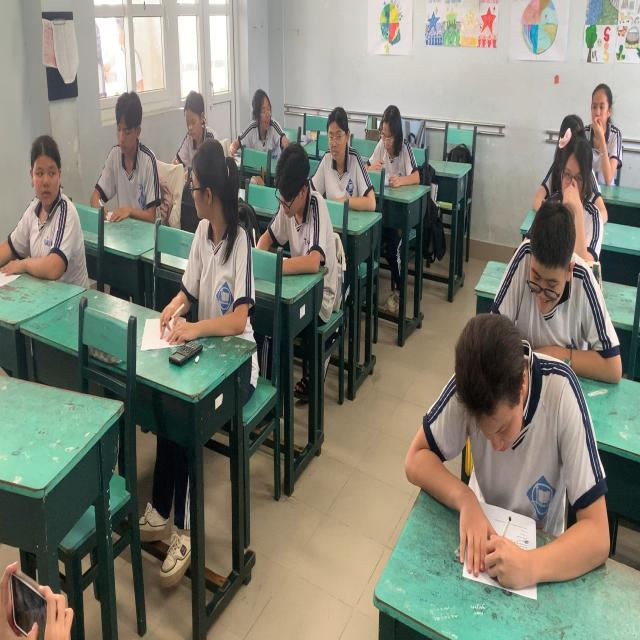cheating: (178, 130, 249, 336), (20, 130, 80, 286), (241, 86, 286, 157)
not_cheating: (429, 308, 586, 506), (503, 199, 604, 336), (261, 140, 332, 288), (94, 85, 158, 211), (314, 104, 368, 218), (544, 127, 594, 230), (588, 78, 628, 183), (370, 96, 416, 184), (170, 87, 216, 165)
